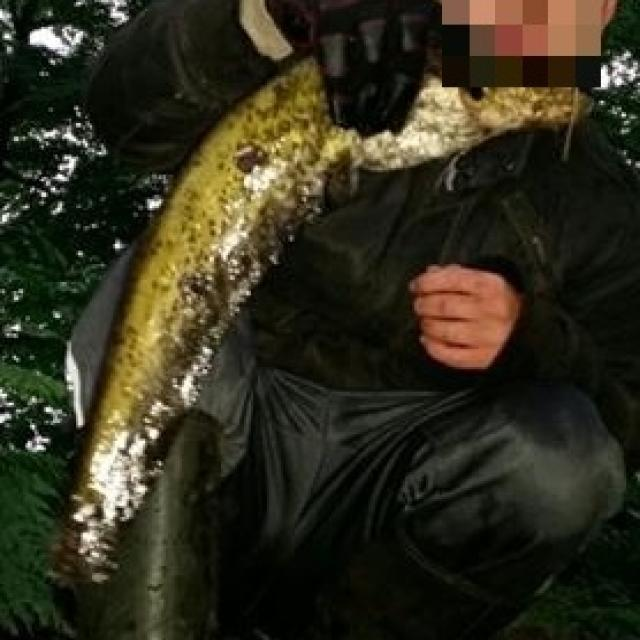Catfish: (81, 41, 558, 594)
